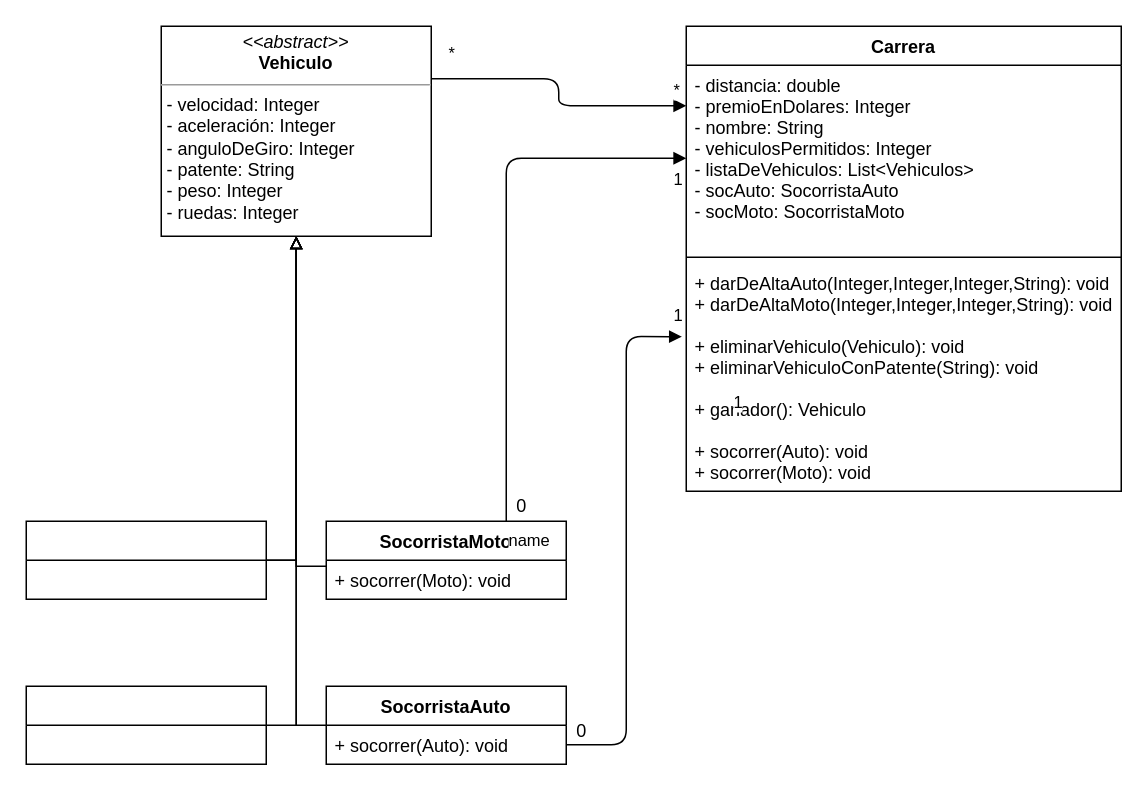
Image size: 1148x795. Some labels were removed from this diagram. The centre of each missing label's shape, as x and y in pixels:
Auto: [145,559]
Moto: [145,724]
